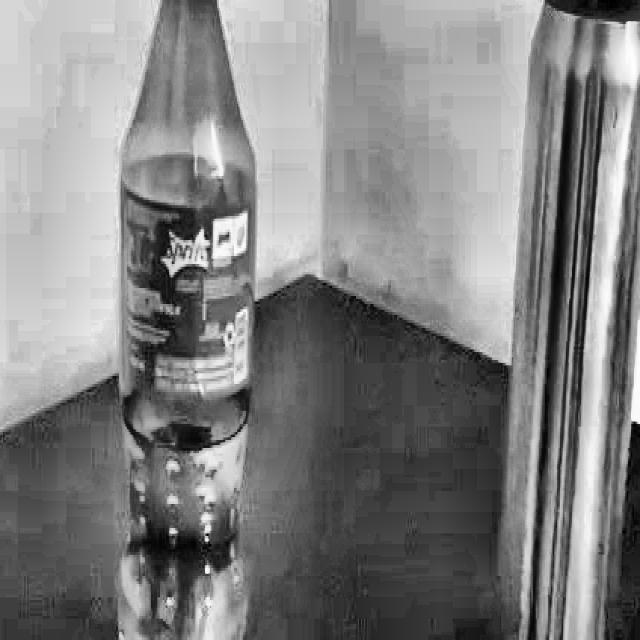bottle: (490, 0, 640, 640), (115, 0, 260, 640)
